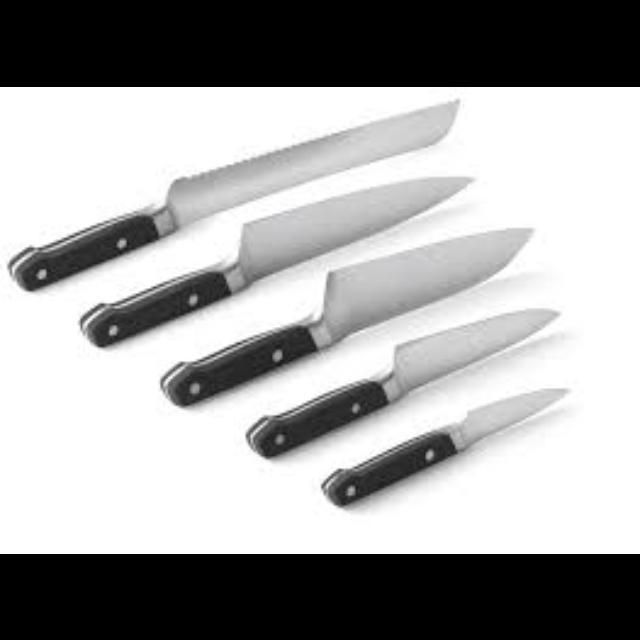Knife: (4, 96, 460, 290), (78, 172, 474, 346), (159, 225, 533, 405), (244, 305, 560, 455), (319, 386, 569, 504)
